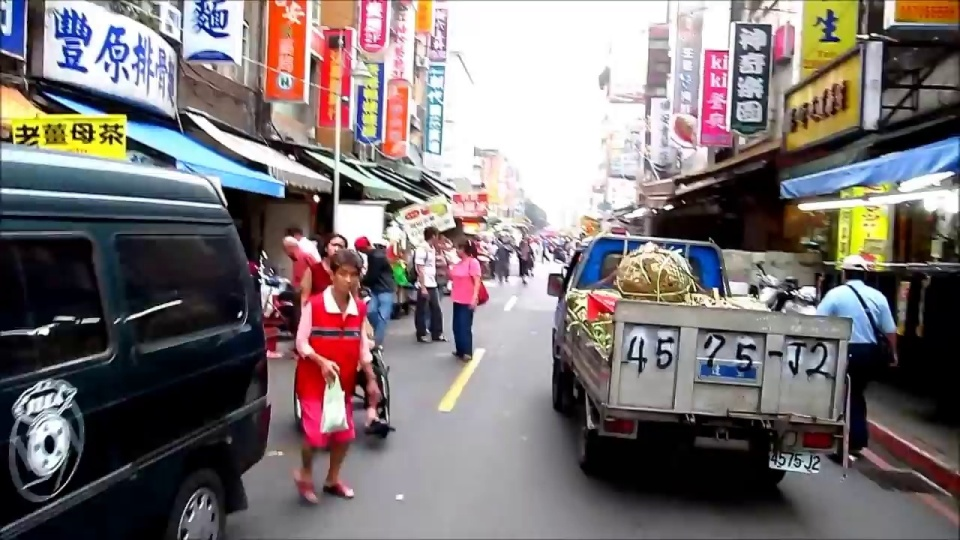person_head: (328, 257, 363, 291), (840, 261, 867, 282), (324, 234, 348, 256), (282, 237, 302, 258), (423, 227, 440, 246), (456, 240, 471, 258), (285, 226, 303, 241), (355, 237, 373, 251)
person_vbox: (286, 252, 370, 505), (817, 252, 900, 462), (447, 237, 488, 362), (353, 234, 396, 351), (279, 234, 317, 352), (297, 229, 360, 299), (413, 223, 449, 344), (280, 223, 321, 264)
